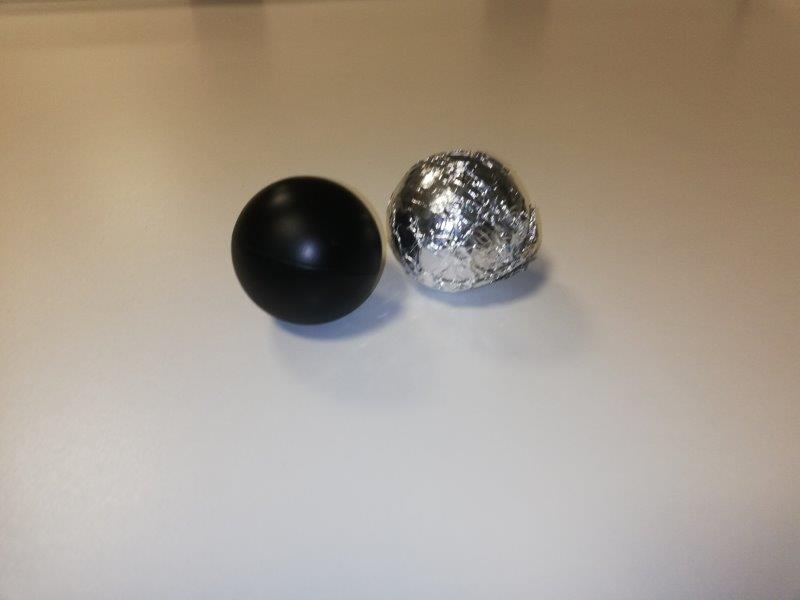bianca: (385, 151, 539, 295)
nera: (225, 176, 383, 330)
